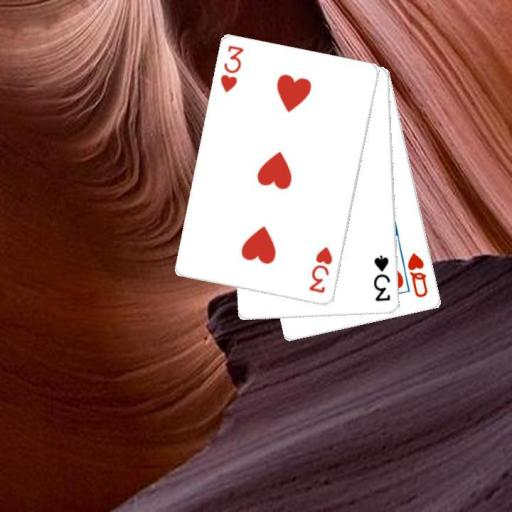3H: (306, 244, 334, 295), (218, 43, 245, 95)
3S: (371, 252, 393, 303)
QH: (405, 250, 430, 300)
